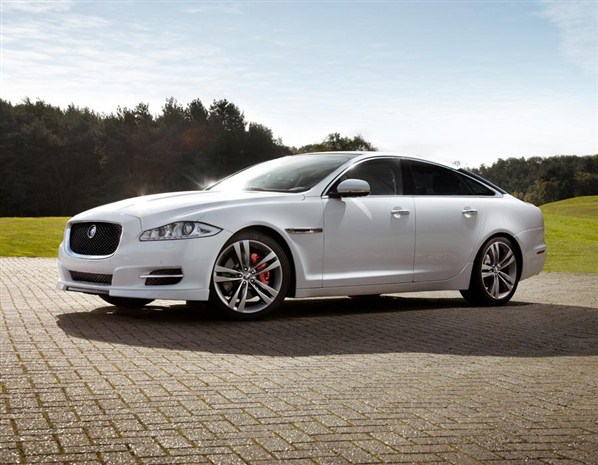Carro: (56, 139, 553, 318)
